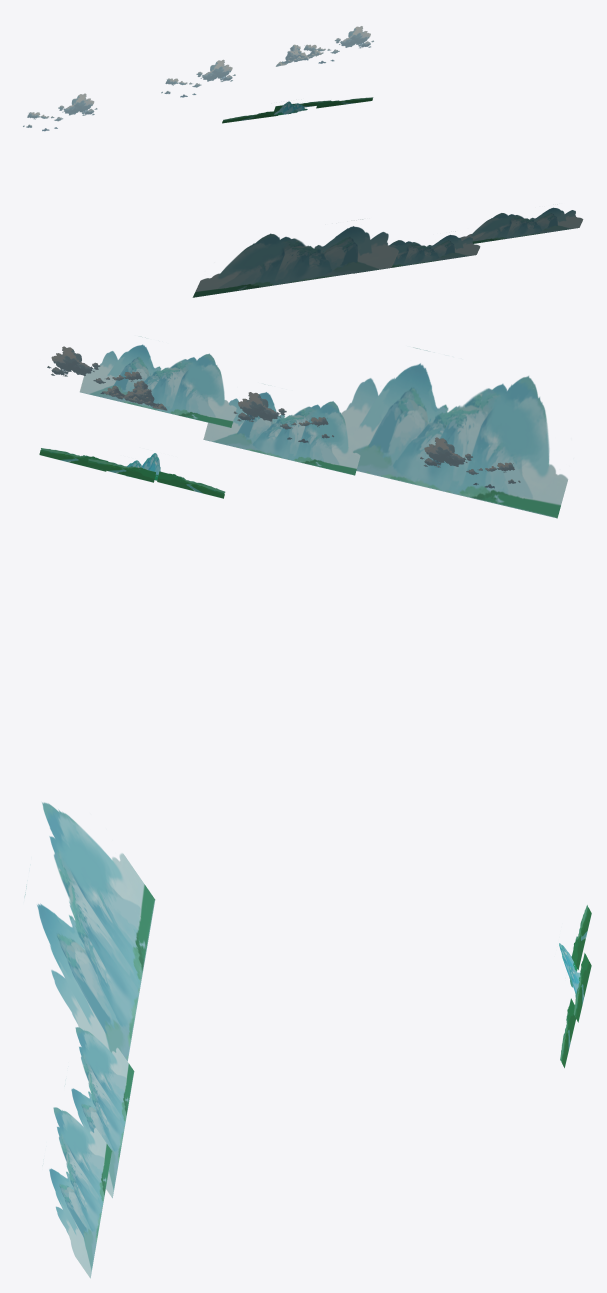
Rendered from backdrop.glb.
3 views of the same model, one above another, from view 1: azimuth 30°, elevation 25°; view 2: azimuth 150°, elevation 25°; view 3: azimuth 270°, elevation 25° (orthographic). The views are drawn at different scales.
Parts seen in each view (by area): view 1: map_sh_shulin_beijing001 (2), map_sh_shulin_beijing001, x46_chrlookdev_cloud_002, map_sh_shulin_beijing001 (1), x46_chrlookdev_cloud_003; view 2: map_sh_shulin_beijing001 (2), map_sh_shulin_beijing001, map_sh_shulin_beijing001 (1), x46_chrlookdev_cloud_002, x46_chrlookdev_cloud_003, map_sh_shulin_beijing002, map_sh_shulin_beijing002 (1), map_sh_shulin_beijing002 (2), map_sh_shulin_beijing003 (1); view 3: map_sh_shulin_beijing001 (2), map_sh_shulin_beijing001, map_sh_shulin_beijing001 (1).
Part boxes in pixels (box(x1,y1,x2,y2)): map_sh_shulin_beijing001 (2): box(192, 219, 398, 297); map_sh_shulin_beijing001: box(460, 207, 583, 243); x46_chrlookdev_cloud_002: box(23, 26, 373, 131); map_sh_shulin_beijing001 (1): box(354, 235, 480, 273); x46_chrlookdev_cloud_003: box(275, 44, 323, 66); map_sh_shulin_beijing001 (2): box(341, 347, 568, 518); map_sh_shulin_beijing001: box(79, 336, 236, 427); map_sh_shulin_beijing001 (1): box(203, 392, 360, 475); x46_chrlookdev_cloud_002: box(47, 346, 520, 488); x46_chrlookdev_cloud_003: box(102, 380, 167, 410); map_sh_shulin_beijing002: box(87, 459, 155, 482); map_sh_shulin_beijing002 (1): box(157, 471, 225, 498); map_sh_shulin_beijing002 (2): box(39, 448, 108, 471); map_sh_shulin_beijing003 (1): box(142, 453, 160, 480); map_sh_shulin_beijing001 (2): box(24, 802, 155, 1061); map_sh_shulin_beijing001: box(49, 1107, 112, 1278); map_sh_shulin_beijing001 (1): box(65, 1027, 134, 1198).
Size of the model in its own units: 666 by 216 by 369.
Materials: 2 (2 with a texture image).
